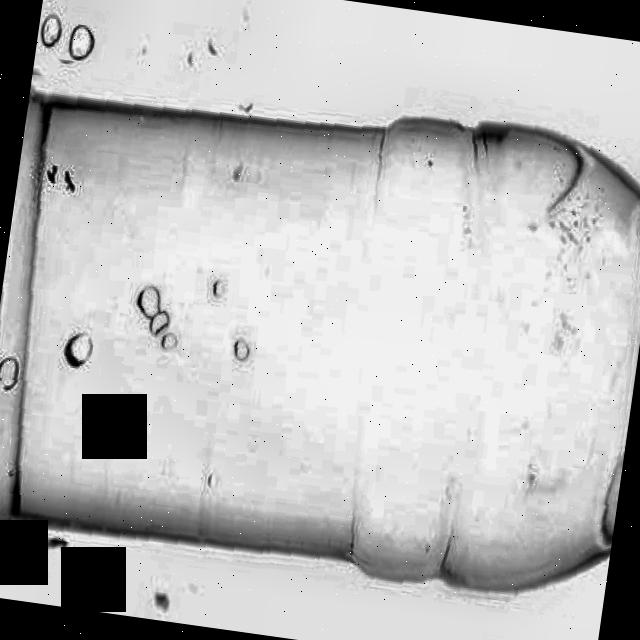bottle: (0, 83, 640, 597)
